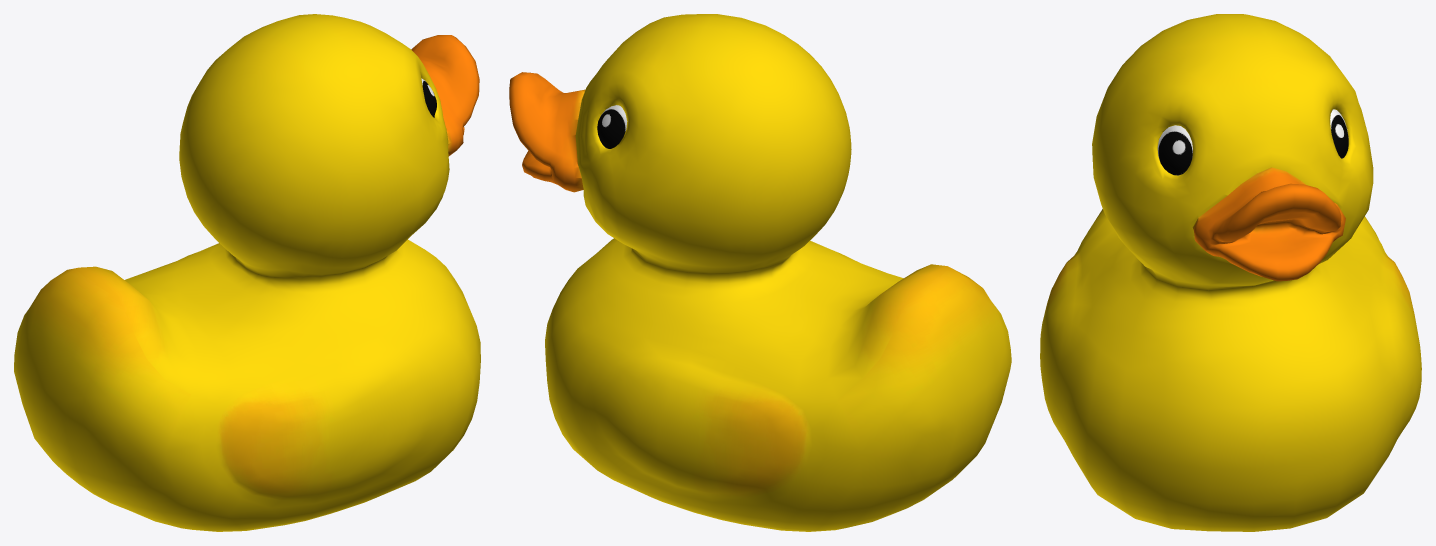
Rendered from Duck.opt.glb.
3 renders of one model, left to right at view 1: azimuth 30°, elevation 25°; view 2: azimuth 150°, elevation 25°; view 3: azimuth 270°, elevation 25°, orthographic. The views are drawn at different scales.
Parts seen in each view (by area): view 1: LOD3spShape; view 2: LOD3spShape; view 3: LOD3spShape.
Part boxes in pixels (x1=…): LOD3spShape: x1=14, y1=14, x2=480, y2=531; LOD3spShape: x1=509, y1=14, x2=1011, y2=531; LOD3spShape: x1=1040, y1=14, x2=1421, y2=531.
Bounding box in the file's own units: 1.65 × 1.54 × 1.15.
Materials: 1 (1 with a texture image).
